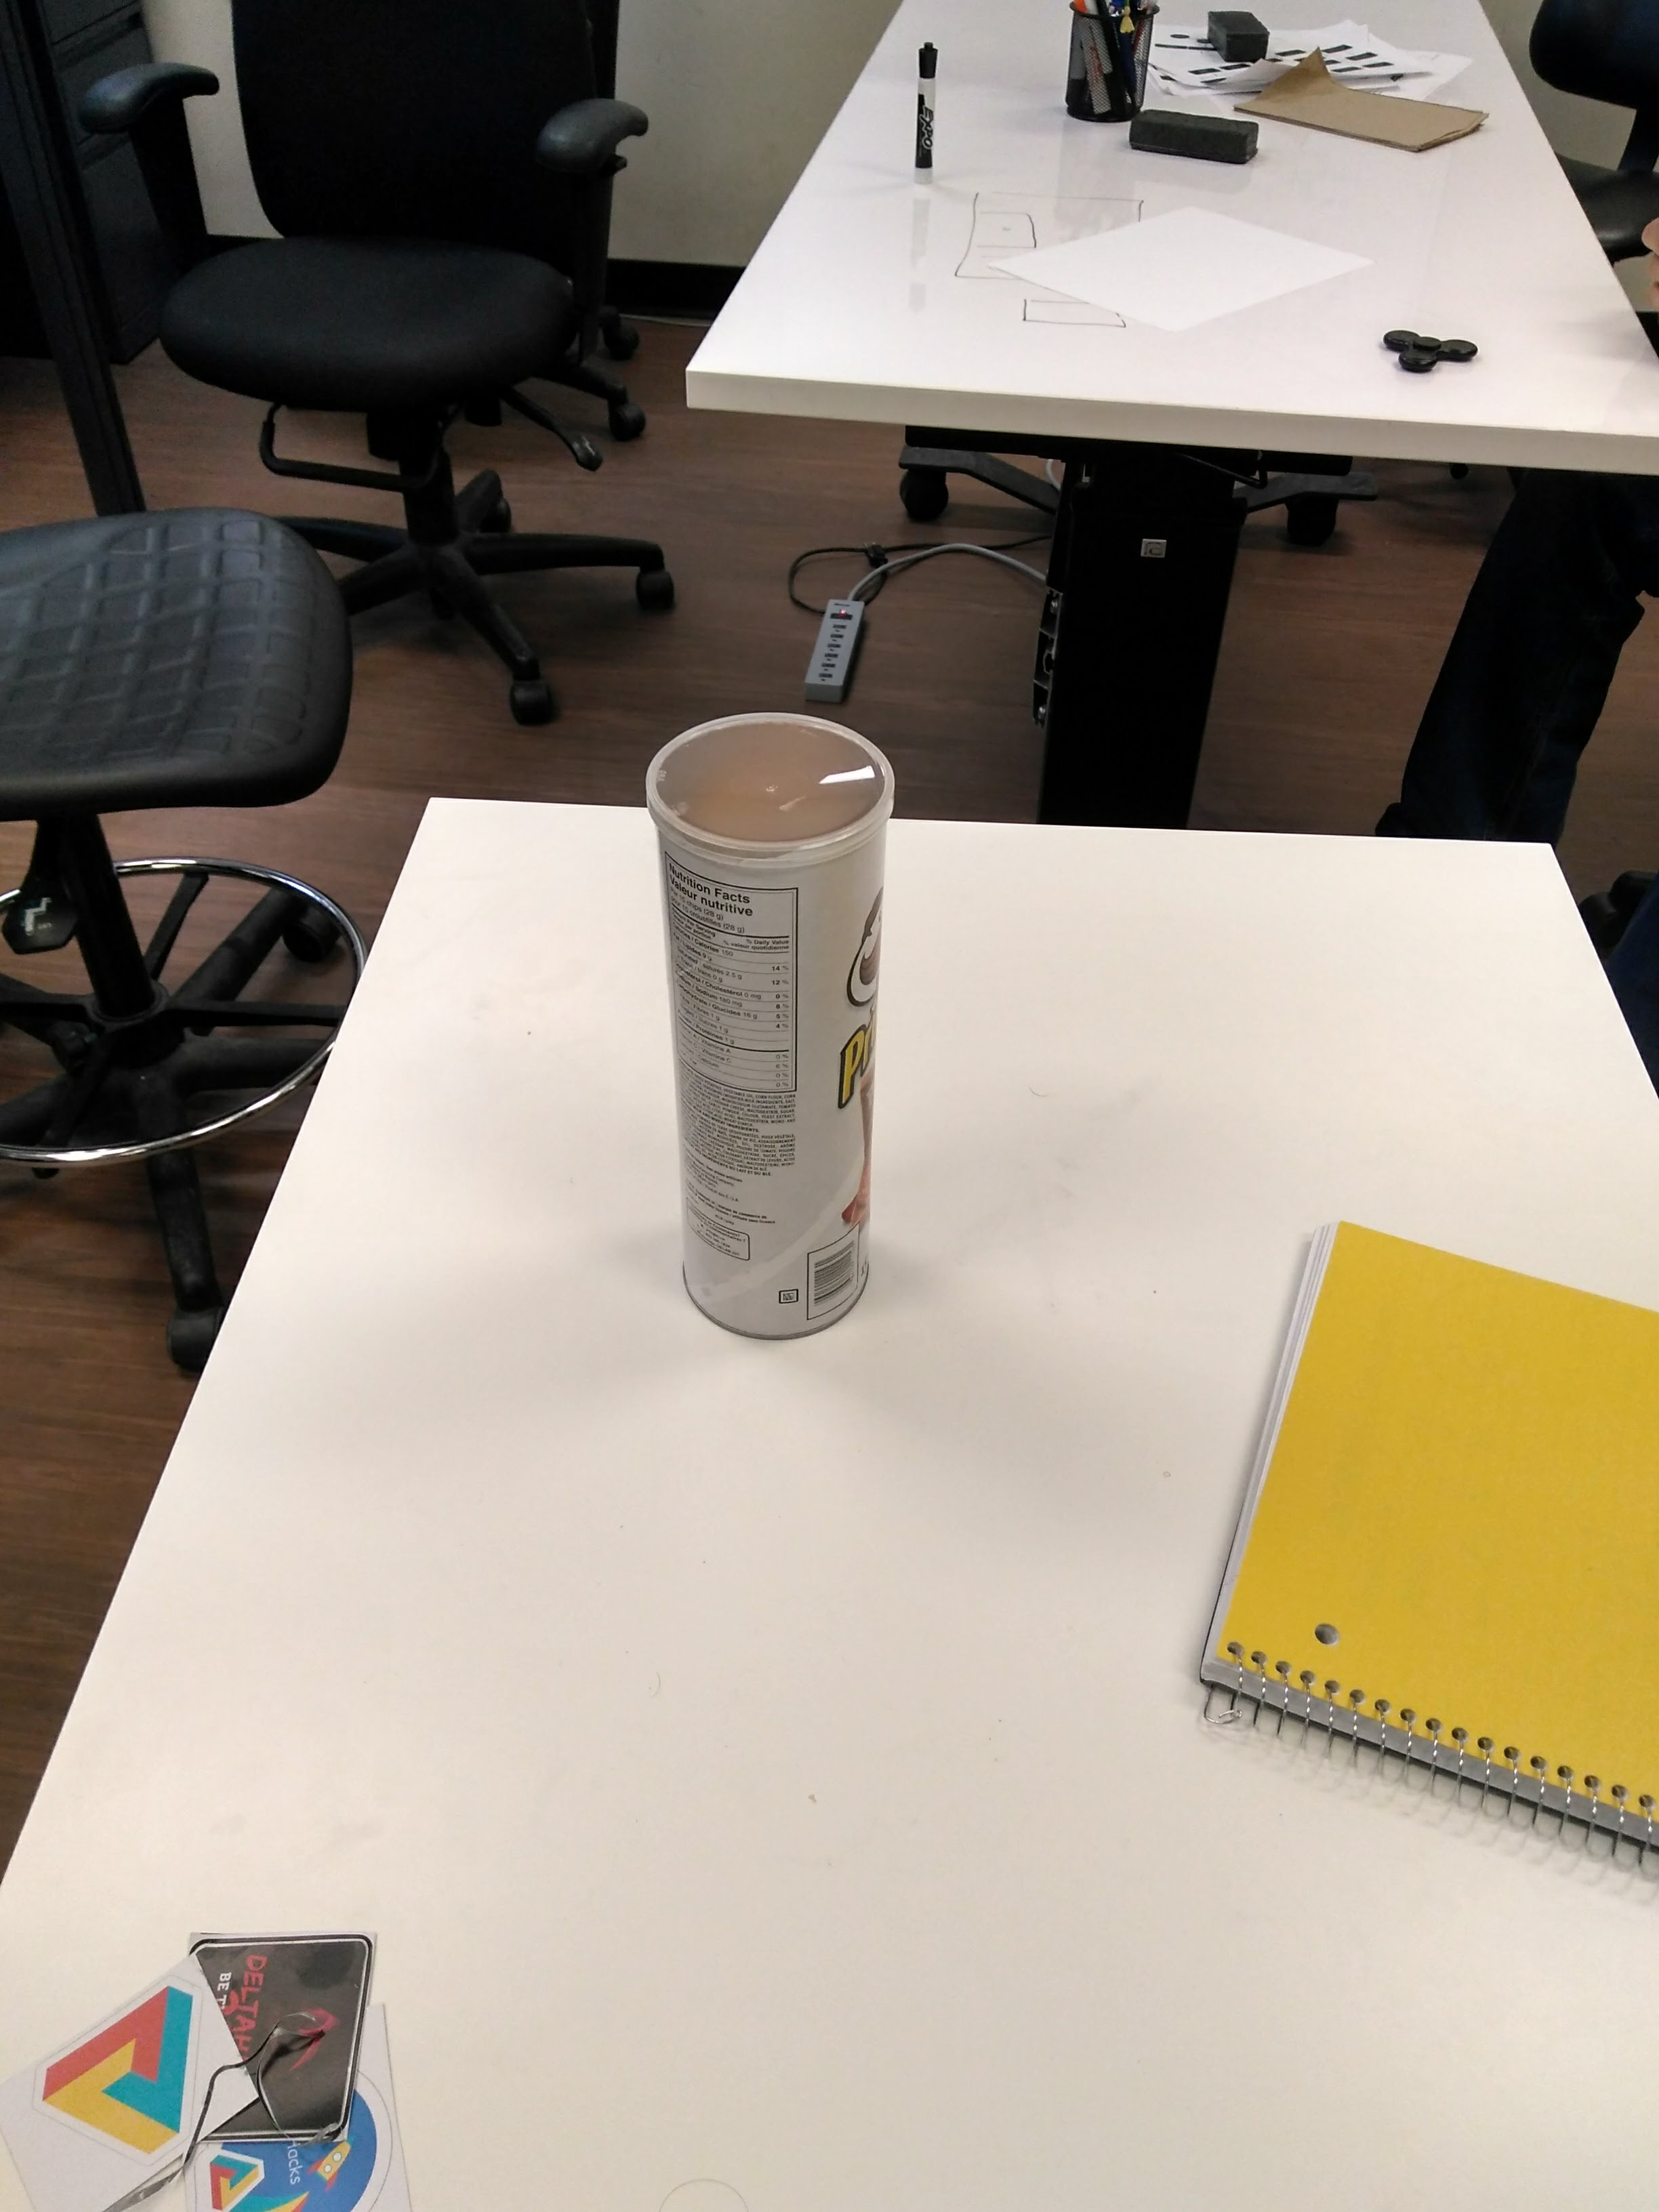pringles: (601, 705, 960, 1381)
